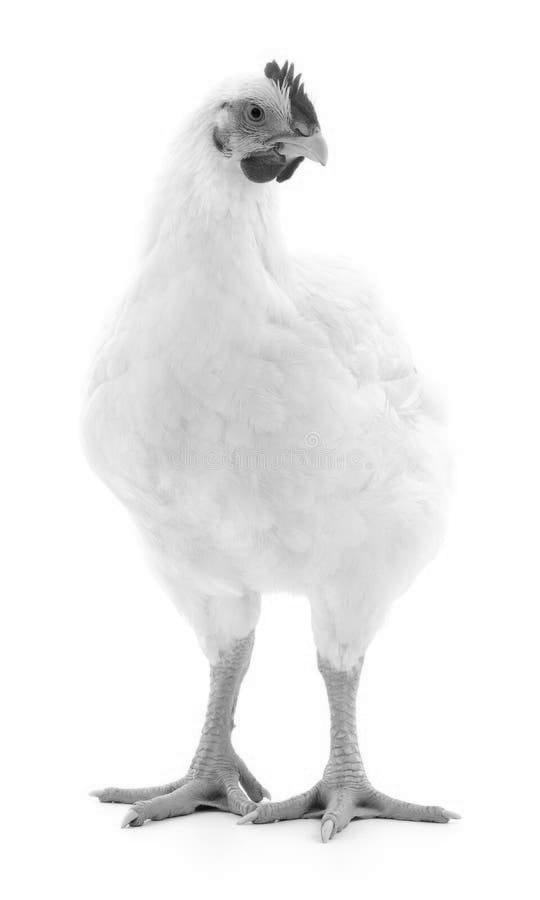Healthy: (77, 39, 470, 833)
